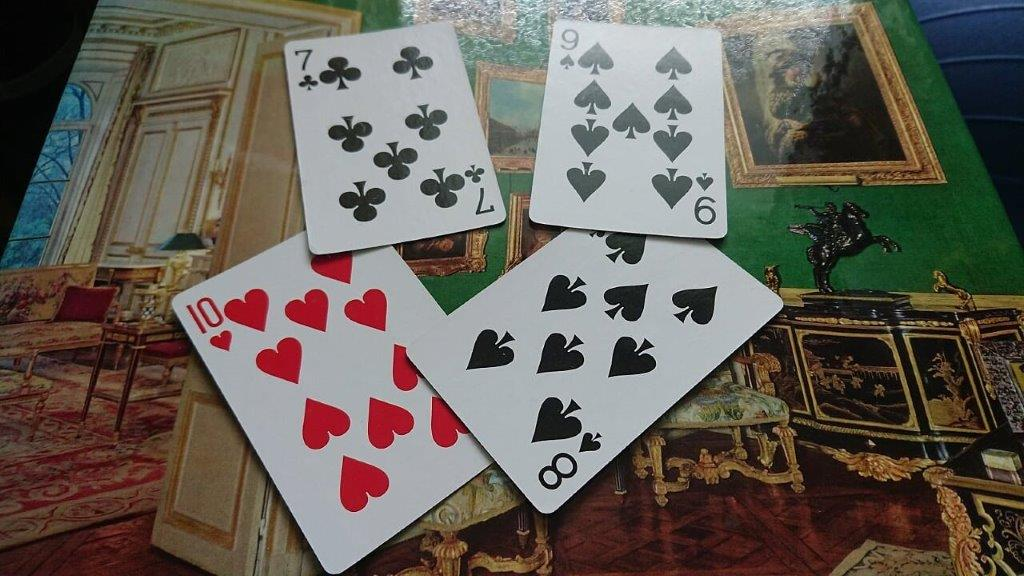10H: (181, 295, 235, 354)
7C: (289, 46, 321, 95)
9S: (555, 25, 582, 74)
